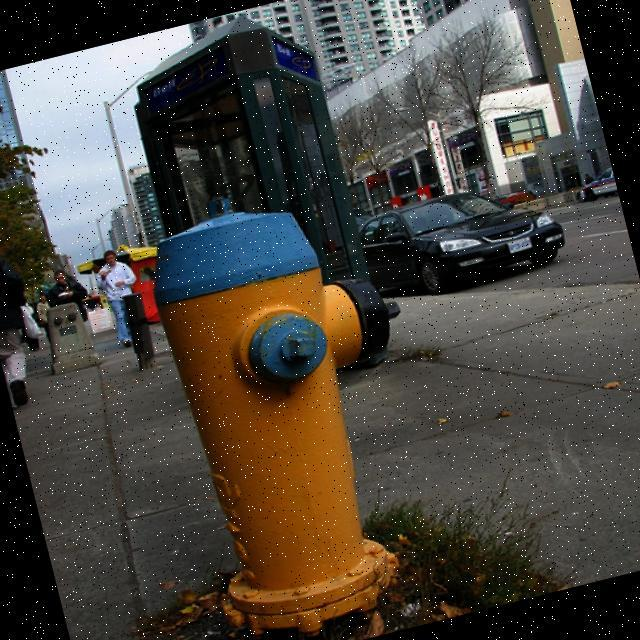fire_hydrant: (121, 162, 474, 640)
